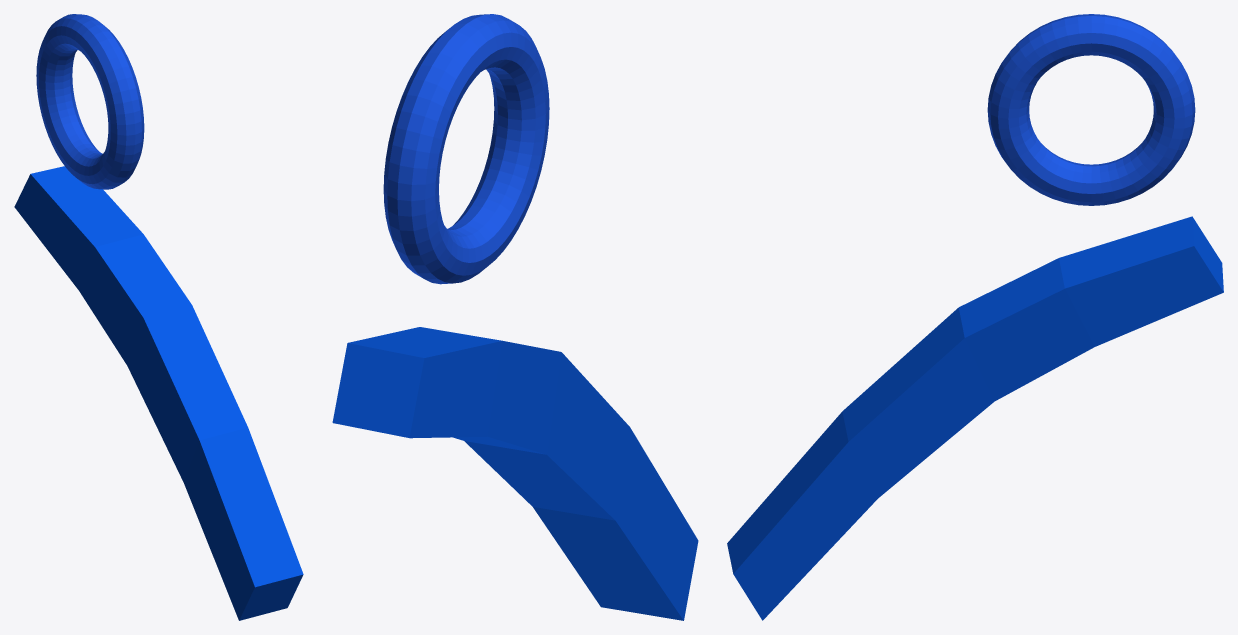
3 renders of one model, left to right at view 1: azimuth 30°, elevation 25°; view 2: azimuth 150°, elevation 25°; view 3: azimuth 270°, elevation 25°, orthographic. The views are drawn at different scales.
Parts seen in each view (by area): view 1: Cube, Torus.002; view 2: Cube, Torus.002; view 3: Cube, Torus.002.
Part boxes in pixels (box(x1,y1,x2,y2)): Cube: box(14, 166, 303, 620); Torus.002: box(36, 14, 144, 189); Cube: box(332, 327, 698, 620); Torus.002: box(383, 14, 549, 284); Cube: box(727, 216, 1223, 620); Torus.002: box(987, 14, 1195, 205).
Size of the model in its own units: 40.72 by 249 by 195.
